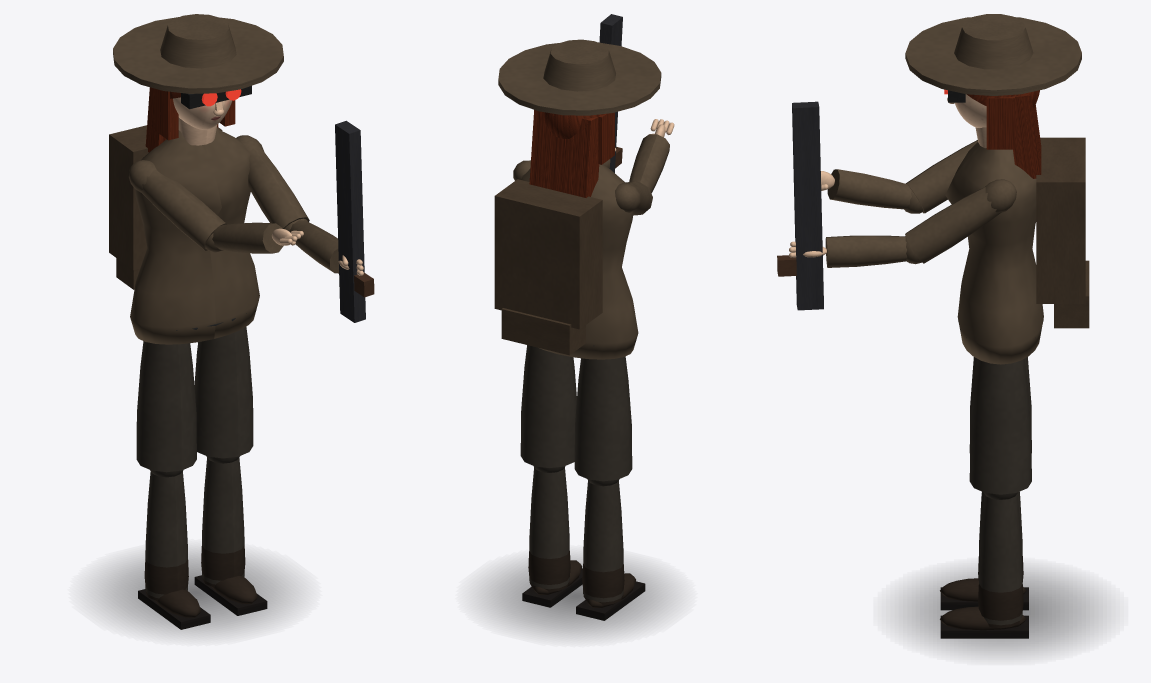
Rendered from enemy_sniper.glb.
The picture shows the model from 3 angles, left to right: view 1: azimuth 30°, elevation 25°; view 2: azimuth 150°, elevation 25°; view 3: azimuth 270°, elevation 25°; orthographic projection. The views are drawn at different scales.
Parts seen in each view (by area): view 1: chest, head, object 11, legL, foreR, legR, shinR, shinL, armL, armR, foreL; view 2: chest, head, object 11, legL, legR, shinL, shinR, foreL, armL, foreR; view 3: chest, head, object 11, foreR, legR, shinR, armR, foreL, armL, shinL.
Part boxes in pixels (<box>): chest: <box>109,117,259,344</box>; head: <box>113,14,283,152</box>; object 11: <box>94,550,295,635</box>; legL: <box>136,341,196,472</box>; foreR: <box>284,120,374,322</box>; legR: <box>194,327,253,458</box>; shinR: <box>194,456,267,615</box>; shinL: <box>138,470,210,629</box>; armL: <box>129,160,226,250</box>; armR: <box>236,135,309,228</box>; foreL: <box>205,222,303,253</box>; chest: <box>494,164,638,359</box>; head: <box>498,39,661,197</box>; object 11: <box>480,555,672,636</box>; legL: <box>574,356,632,481</box>; legR: <box>520,345,576,467</box>; shinL: <box>576,479,645,620</box>; shinR: <box>522,466,582,607</box>; foreL: <box>629,119,674,193</box>; armL: <box>615,181,652,215</box>; foreR: <box>599,14,622,172</box>; chest: <box>945,127,1089,364</box>; head: <box>905,14,1081,178</box>; object 11: <box>898,569,1102,654</box>; foreR: <box>777,101,921,310</box>; legR: <box>969,358,1031,494</box>; shinR: <box>940,492,1028,638</box>; armR: <box>905,179,1016,263</box>; foreL: <box>821,169,923,213</box>; armL: <box>905,140,977,213</box>; shinL: <box>940,491,1028,610</box>.
Size of the model in its own units: 0.77 by 1.84 by 1.02.
8 materials, 5 textured.
